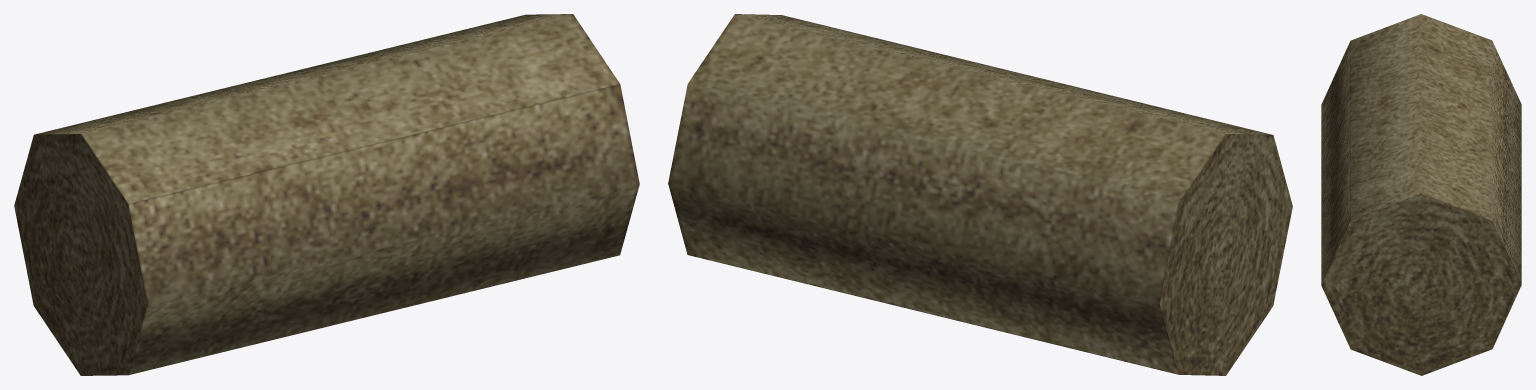
File: SM_EC_Hay_3.002.fbx
3 views of the same model, side by side, from view 1: azimuth 30°, elevation 25°; view 2: azimuth 150°, elevation 25°; view 3: azimuth 270°, elevation 25° (orthographic). The views are drawn at different scales.
Visible parts, largest first — view 1: SM_EC_Hay_3.002; view 2: SM_EC_Hay_3.002; view 3: SM_EC_Hay_3.002.
Boxes of the visible parts, left/top/right/bottom form: SM_EC_Hay_3.002: left=14, top=14, right=639, bottom=375; SM_EC_Hay_3.002: left=668, top=14, right=1292, bottom=375; SM_EC_Hay_3.002: left=1321, top=14, right=1521, bottom=375.
Bounding box in the file's own units: 1.95 × 0.9165 × 0.9165.
